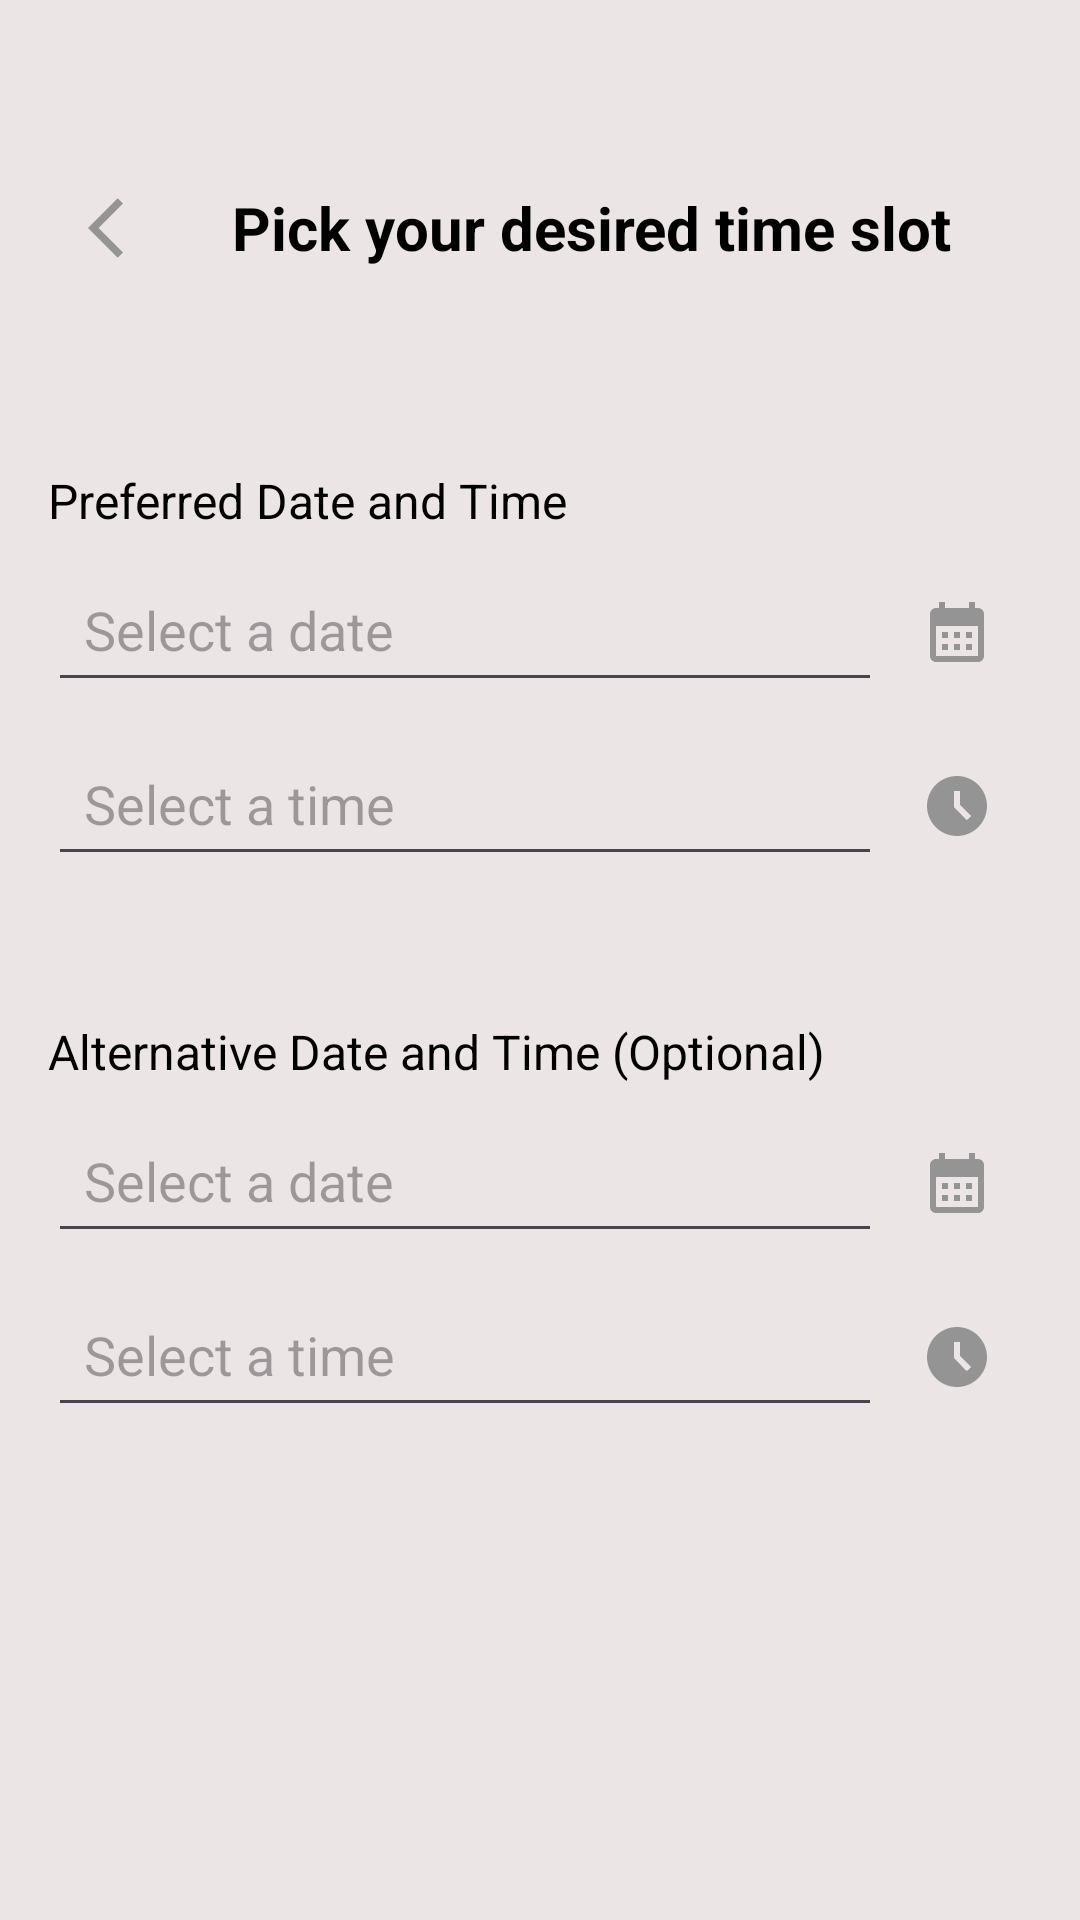

Where icons sit on this 1080x1920 app screen, as bbox(x1, y1, x2, y2):
back: bbox(88, 198, 123, 258)
Select alternative date: bbox(930, 1153, 984, 1213)
Select alternative time: bbox(927, 1327, 987, 1387)
Select preferred date: bbox(930, 602, 984, 662)
Select preferred time: bbox(927, 776, 987, 836)
